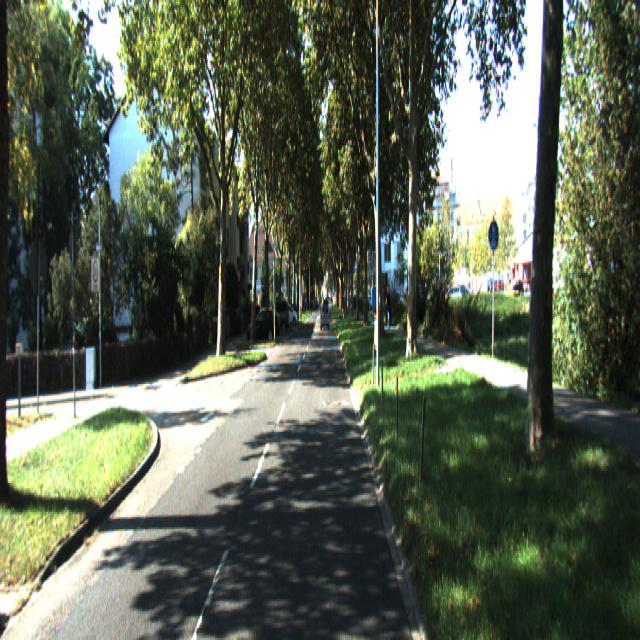Car: (248, 306, 278, 343)
